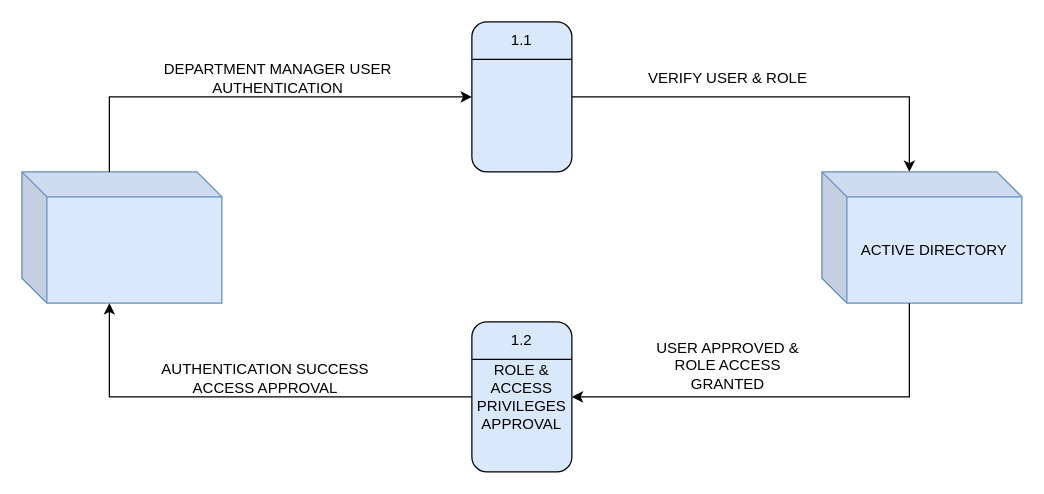
Some shapes in this 1044 by 494 pixel diagram are drawn without their labels. Here are the shapes that lost their labels. From the top down, the box of each, then its label:
(471, 21, 572, 172): AUTHORIZE USER DETAILS
(21, 171, 222, 303): DEPARTMENT USER INTERFACES
